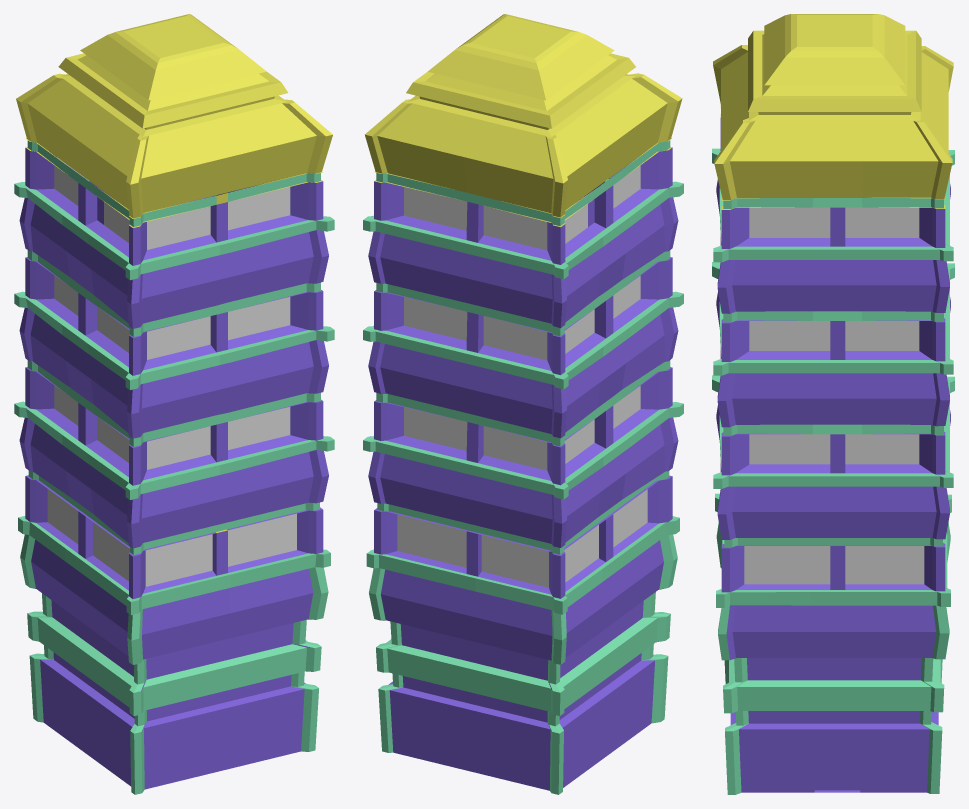
File: FBX_Tower2.fbx
The picture shows the model from 3 angles, left to right: view 1: azimuth 30°, elevation 25°; view 2: azimuth 150°, elevation 25°; view 3: azimuth 270°, elevation 25°; orthographic projection. The views are drawn at different scales.
Parts seen in each view (by area): view 1: FBX_UC_mBuilding_7; view 2: FBX_UC_mBuilding_7; view 3: FBX_UC_mBuilding_7.
Part boxes in pixels (x1,y1,x2,y2): FBX_UC_mBuilding_7: (14,14,334,794); FBX_UC_mBuilding_7: (363,14,683,794); FBX_UC_mBuilding_7: (712,14,954,794).
Size of the model in its own units: 1210 by 3931 by 1203.
